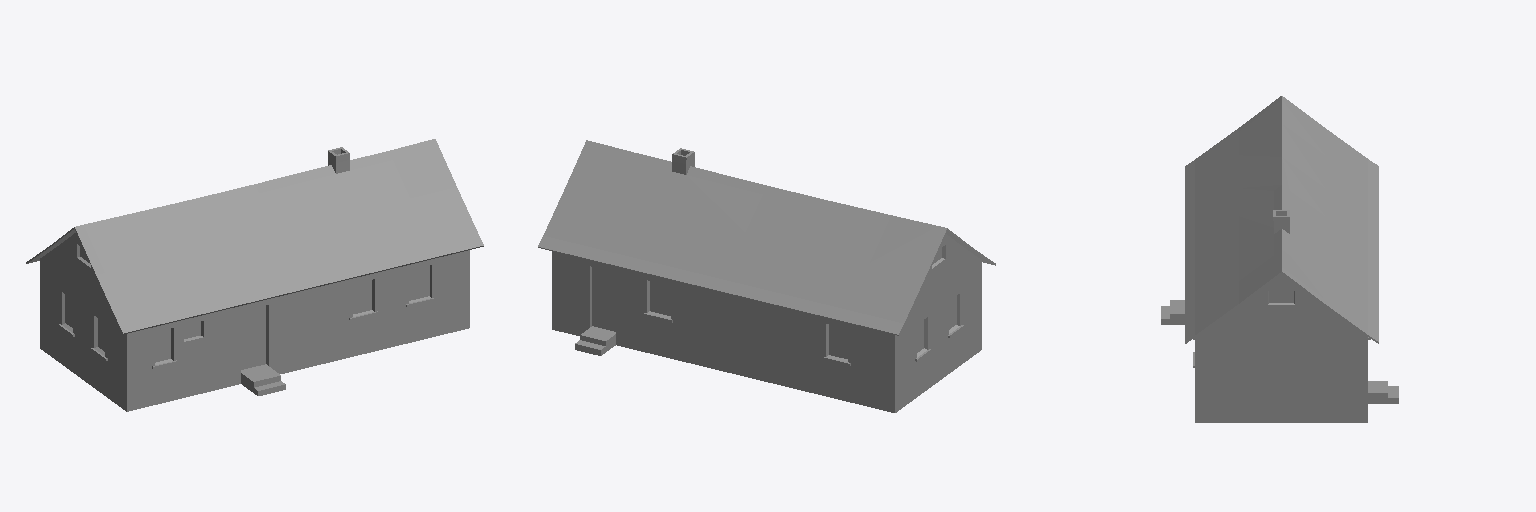
The model's file is farmhouse.obj.
3 views of the same model, side by side, from view 1: azimuth 30°, elevation 25°; view 2: azimuth 150°, elevation 25°; view 3: azimuth 270°, elevation 25° (orthographic).
Parts seen in each view (by area): view 1: pHouse; view 2: pHouse; view 3: pHouse.
Boxes of the visible parts, <box> form: pHouse: <box>26,139,483,411</box>; pHouse: <box>538,140,995,412</box>; pHouse: <box>1161,96,1398,422</box>.
Size of the model in its own units: 14.49 by 6.39 by 8.25.